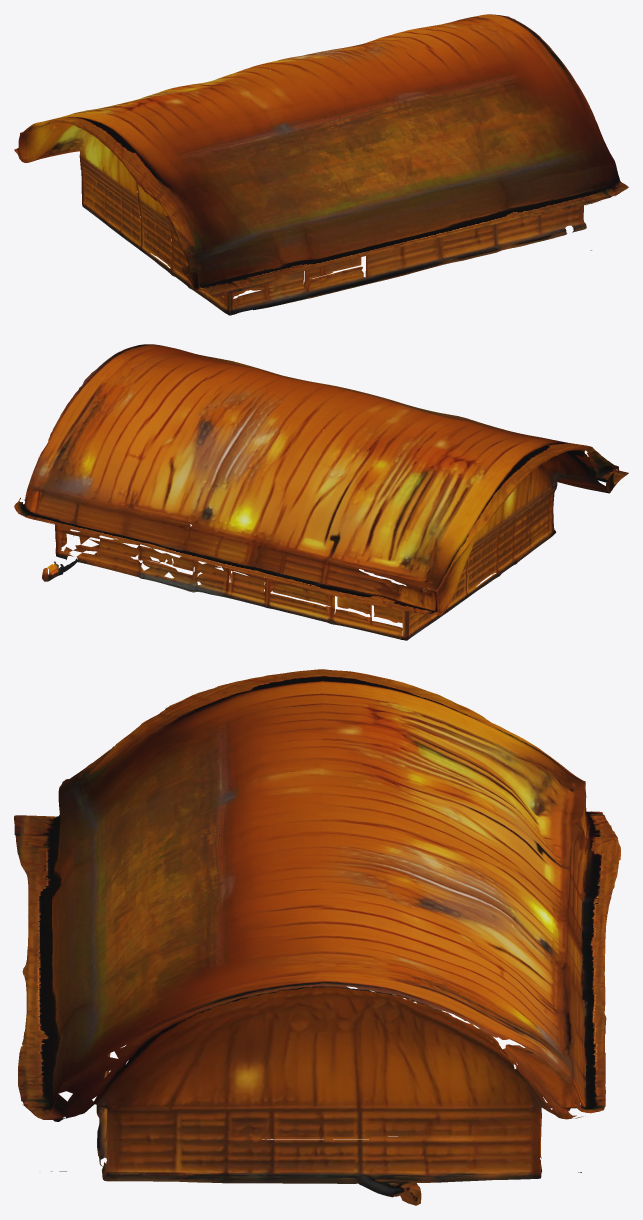
The model's file is musterhall.glb.
3 views of the same model, one above another, from view 1: azimuth 30°, elevation 25°; view 2: azimuth 150°, elevation 25°; view 3: azimuth 270°, elevation 25° (orthographic). The views are drawn at different scales.
Visible parts, largest first — view 1: geometry_0.144; view 2: geometry_0.144; view 3: geometry_0.144.
Boxes of the visible parts, box(x1,y1,x2,y2) form: geometry_0.144: box(14, 14, 628, 315); geometry_0.144: box(14, 344, 628, 640); geometry_0.144: box(14, 669, 620, 1205).
Size of the model in its own units: 2.94 by 0.9321 by 2.34.
1 material, 1 textured.
